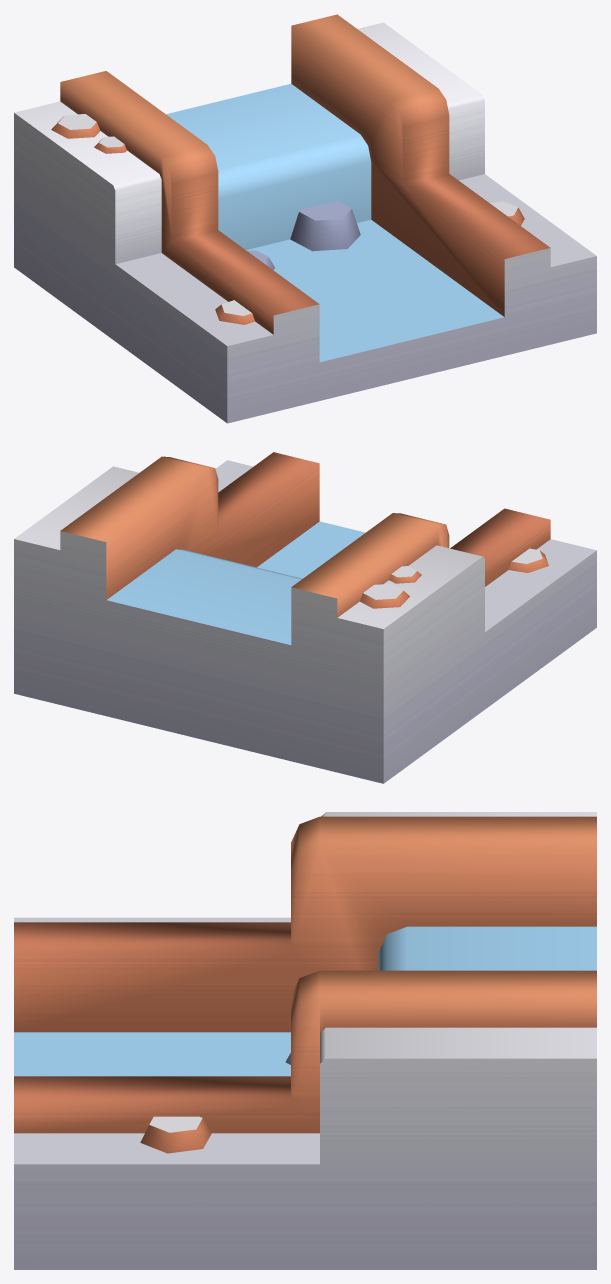
Rendered from snow-tile-river-waterfall.glb.
3 views of the same model, one above another, from view 1: azimuth 30°, elevation 25°; view 2: azimuth 150°, elevation 25°; view 3: azimuth 270°, elevation 25° (orthographic). The views are drawn at different scales.
Parts seen in each view (by area): view 1: snow-tile-river-waterfall; view 2: snow-tile-river-waterfall; view 3: snow-tile-river-waterfall.
Part boxes in pixels (x1,y1,x2,y2): snow-tile-river-waterfall: (14, 14, 596, 423); snow-tile-river-waterfall: (14, 452, 596, 783); snow-tile-river-waterfall: (14, 812, 596, 1269).
Size of the model in its own units: 1 by 0.45 by 1.
Materials: 1 (1 with a texture image).
